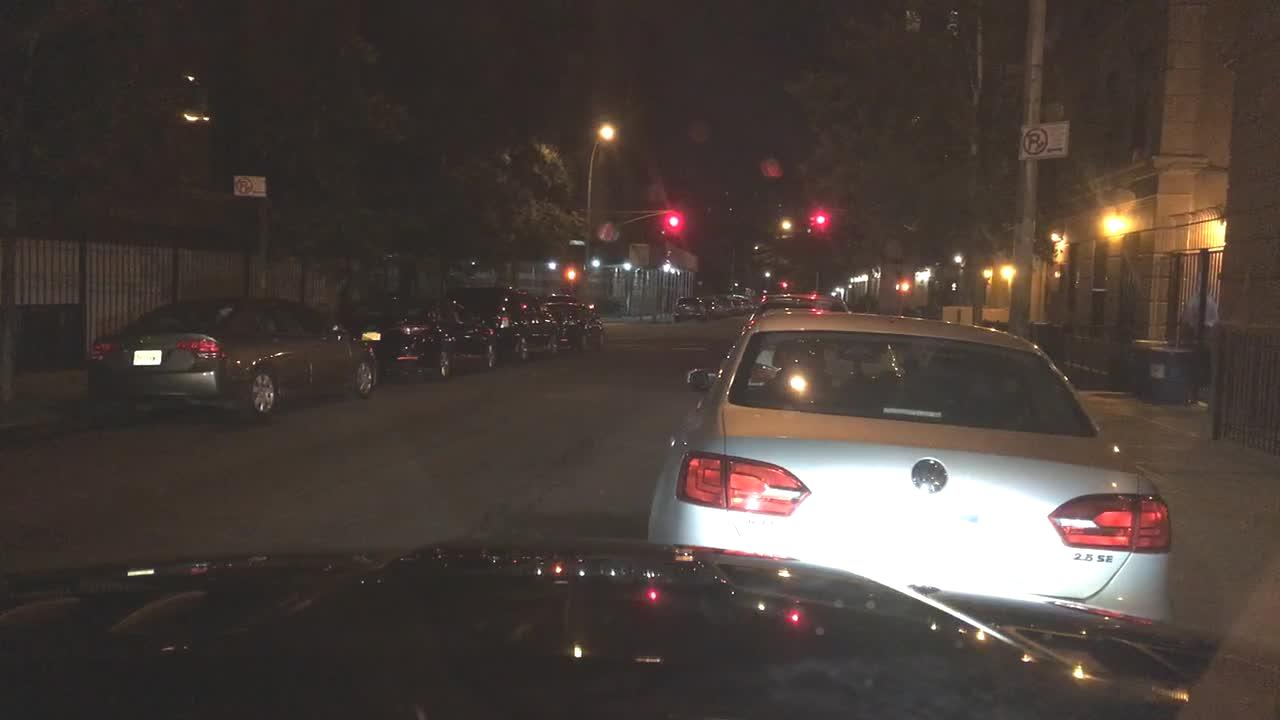Volkswagen: (909, 460, 958, 499)
